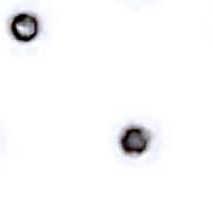cancer: (106, 105, 173, 175), (1, 4, 54, 58)
